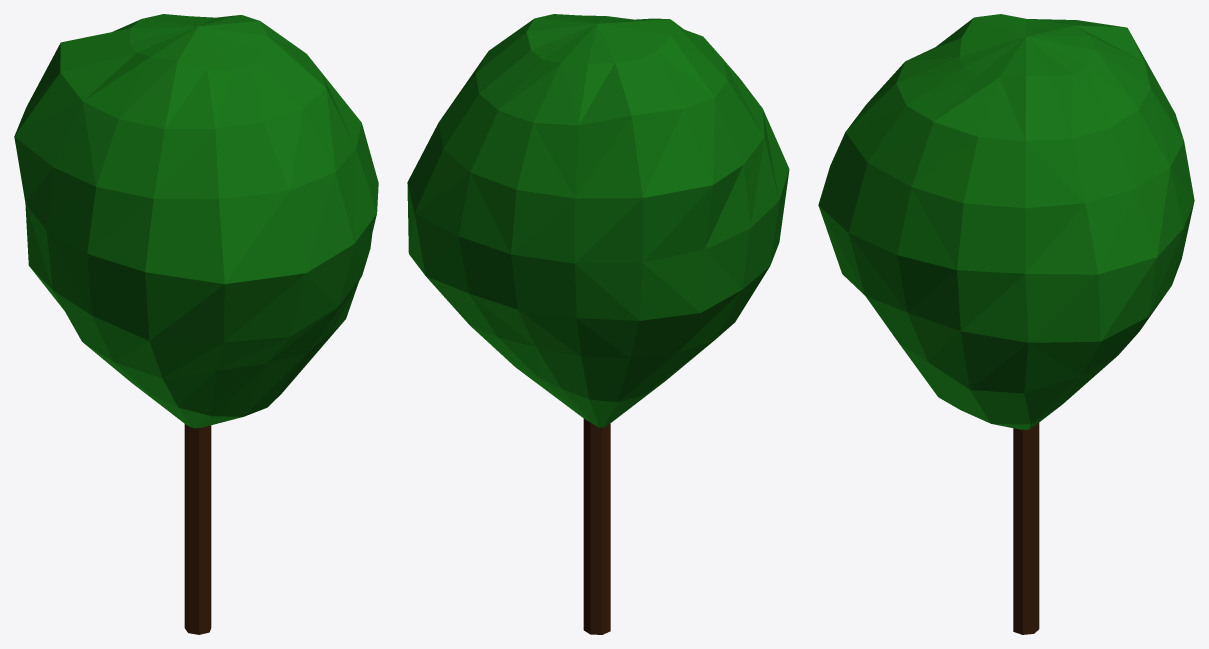
File: tree.obj
3 views of the same model, side by side, from view 1: azimuth 30°, elevation 25°; view 2: azimuth 150°, elevation 25°; view 3: azimuth 270°, elevation 25° (orthographic). The views are drawn at different scales.
Parts seen in each view (by area): view 1: leaves_Cylinder.002, trunk_Cylinder.001; view 2: leaves_Cylinder.002, trunk_Cylinder.001; view 3: leaves_Cylinder.002, trunk_Cylinder.001.
Part boxes in pixels (left/top/right/bottom): leaves_Cylinder.002: left=14, top=14, right=378, bottom=428; trunk_Cylinder.001: left=184, top=424, right=211, bottom=634; leaves_Cylinder.002: left=407, top=14, right=789, bottom=427; trunk_Cylinder.001: left=583, top=419, right=610, bottom=634; leaves_Cylinder.002: left=818, top=14, right=1194, bottom=429; trunk_Cylinder.001: left=1013, top=423, right=1039, bottom=634.
Bounding box in the file's own units: 5.22 × 9.68 × 5.57.
